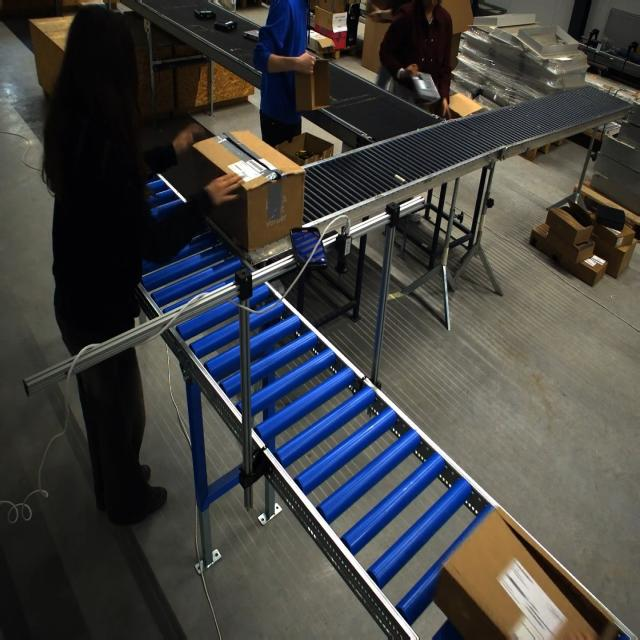box: (432, 506, 623, 639), (190, 131, 305, 255), (420, 88, 486, 121), (275, 133, 329, 168), (295, 57, 326, 111)
product: (410, 71, 441, 103), (214, 20, 237, 32), (194, 9, 216, 20), (243, 29, 259, 42)
